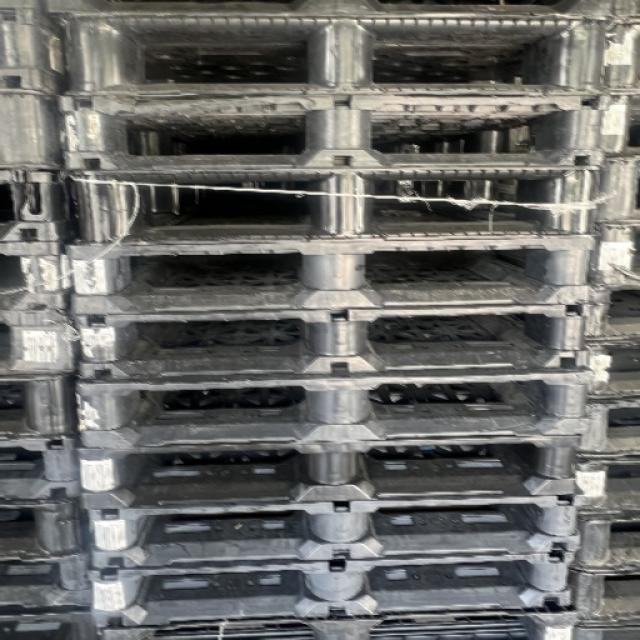igps: (49, 3, 616, 101), (58, 228, 604, 322), (50, 88, 618, 178), (64, 159, 608, 251), (68, 361, 597, 454), (64, 298, 598, 386), (83, 546, 581, 634), (82, 489, 590, 575), (70, 431, 586, 515), (92, 599, 586, 640), (37, 0, 618, 26), (0, 486, 99, 569), (0, 1, 80, 101), (0, 158, 88, 248), (0, 423, 90, 508), (0, 540, 99, 617), (0, 81, 78, 177), (0, 365, 87, 446), (0, 301, 88, 381), (0, 235, 80, 319), (563, 559, 640, 633), (566, 449, 640, 520), (564, 509, 640, 577), (577, 263, 640, 345), (568, 393, 640, 460), (576, 330, 640, 405), (581, 215, 640, 293), (0, 600, 108, 640), (589, 149, 640, 231), (595, 11, 640, 98), (593, 81, 640, 160), (567, 614, 640, 640)
